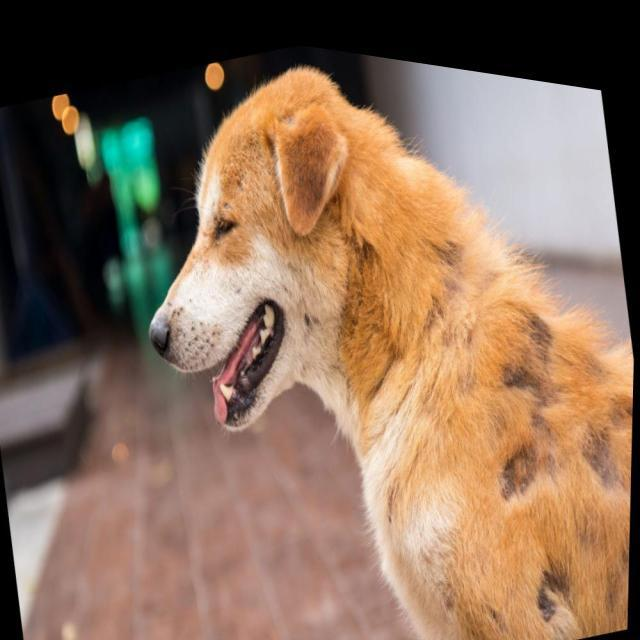mange: (492, 300, 566, 411), (570, 385, 626, 499), (495, 409, 546, 510), (520, 555, 572, 624)
